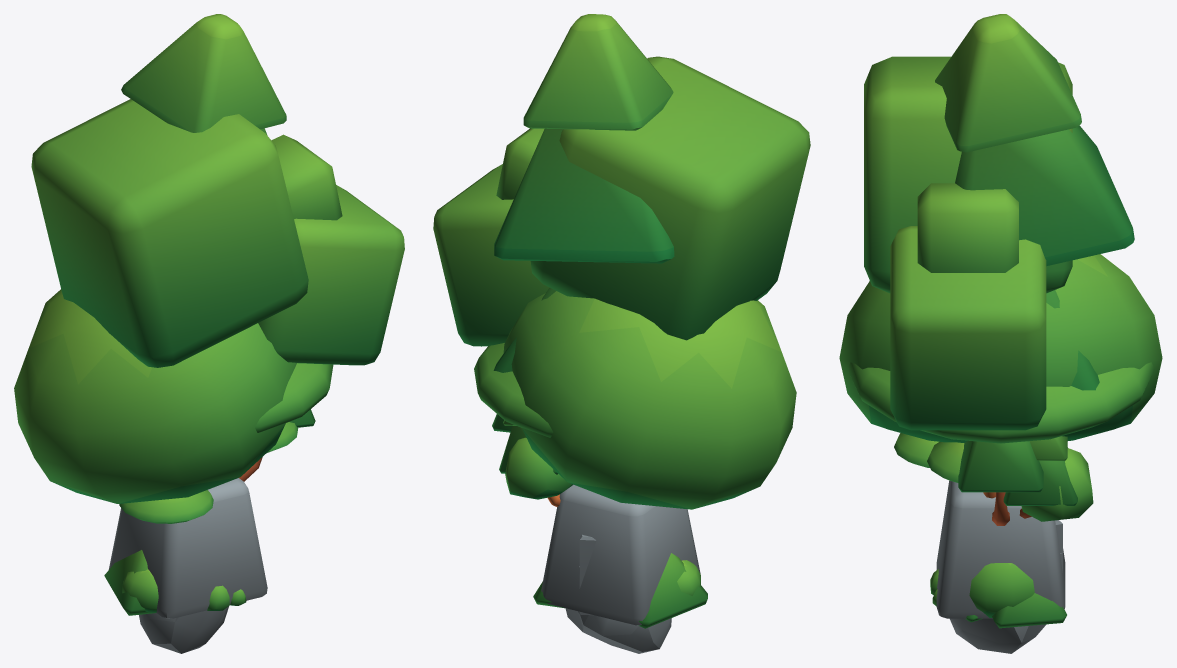
File: forest.glb
3 renders of one model, left to right at view 1: azimuth 30°, elevation 25°; view 2: azimuth 150°, elevation 25°; view 3: azimuth 270°, elevation 25°, orthographic. The views are drawn at different scales.
Visible parts, largest first — view 1: Tree_2_B_Color1, Tree_1_A_Color1, Tree_4_B_Color1, Rock_2_C_Color1, Tree_3_A_Color1, Rock_3_E_Color1, Bush_1_E_Color1, Bush_4_D_Color1; view 2: Tree_2_B_Color1, Tree_1_A_Color1, Tree_4_B_Color1, Rock_2_C_Color1, Tree_3_A_Color1, Bush_4_D_Color1, Rock_3_E_Color1, Tree_4_A_Color1, Bush_1_E_Color1, Rock_1_D_Color1; view 3: Tree_2_B_Color1, Tree_4_B_Color1, Tree_1_A_Color1, Rock_2_C_Color1, Tree_3_A_Color1, Tree_4_A_Color1, Bush_1_E_Color1, Rock_3_E_Color1, Bush_4_D_Color1.
Part boxes in pixels (x1,y1,x2,y2): Tree_2_B_Color1: (31,99,404,367); Tree_1_A_Color1: (14,289,296,503); Tree_4_B_Color1: (121,14,315,481); Rock_2_C_Color1: (108,478,267,618); Tree_3_A_Color1: (119,363,333,523); Rock_3_E_Color1: (139,606,228,653); Bush_1_E_Color1: (122,569,246,612); Bush_4_D_Color1: (104,550,155,615); Tree_2_B_Color1: (433,56,810,346); Tree_1_A_Color1: (503,291,796,509); Tree_4_B_Color1: (492,14,674,432); Rock_2_C_Color1: (541,484,700,625); Tree_3_A_Color1: (474,343,553,437); Bush_4_D_Color1: (533,553,707,628); Rock_3_E_Color1: (565,608,671,653); Tree_4_A_Color1: (493,288,557,474); Bush_1_E_Color1: (677,560,700,595); Rock_1_D_Color1: (578,534,596,615); Tree_2_B_Color1: (864,56,1072,430); Tree_4_B_Color1: (935,14,1134,525); Tree_1_A_Color1: (839,254,1162,521); Rock_2_C_Color1: (936,480,1065,618); Tree_3_A_Color1: (847,362,1154,498); Tree_4_A_Color1: (1003,290,1099,518); Bush_1_E_Color1: (930,563,1034,617); Rock_3_E_Color1: (950,618,1046,653); Bush_4_D_Color1: (965,593,1066,628).
Size of the model in its own units: 4.02 by 7.16 by 3.25.
1 material, 1 textured.
